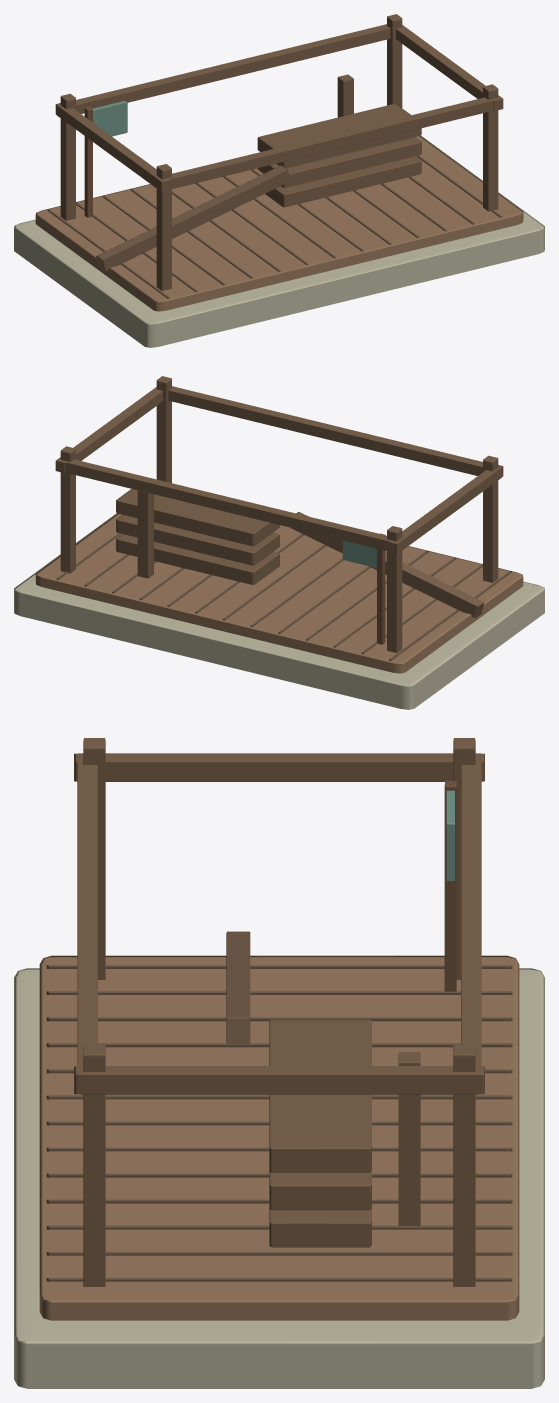
File: woodlookout-1.glb
3 renders of one model, top to bottom at view 1: azimuth 30°, elevation 25°; view 2: azimuth 150°, elevation 25°; view 3: azimuth 270°, elevation 25°, orthographic. The views are drawn at different scales.
Parts seen in each view (by area): view 1: woodlookout-1-0, landmark-restored, landmark-ruin; view 2: woodlookout-1-0, landmark-restored, landmark-ruin; view 3: woodlookout-1-0, landmark-restored, landmark-ruin.
Boxes of the visible parts, left/top/right/bottom form: woodlookout-1-0: left=14, top=135, right=544, bottom=347; landmark-restored: left=55, top=14, right=503, bottom=290; landmark-ruin: left=96, top=74, right=353, bottom=271; woodlookout-1-0: left=14, top=513, right=544, bottom=709; landmark-restored: left=55, top=376, right=503, bottom=652; landmark-ruin: left=137, top=490, right=483, bottom=618; woodlookout-1-0: left=14, top=955, right=544, bottom=1388; landmark-restored: left=74, top=738, right=484, bottom=1286; landmark-ruin: left=226, top=931, right=420, bottom=1225.
Size of the model in its own units: 2.6 by 0.985 by 1.55.
